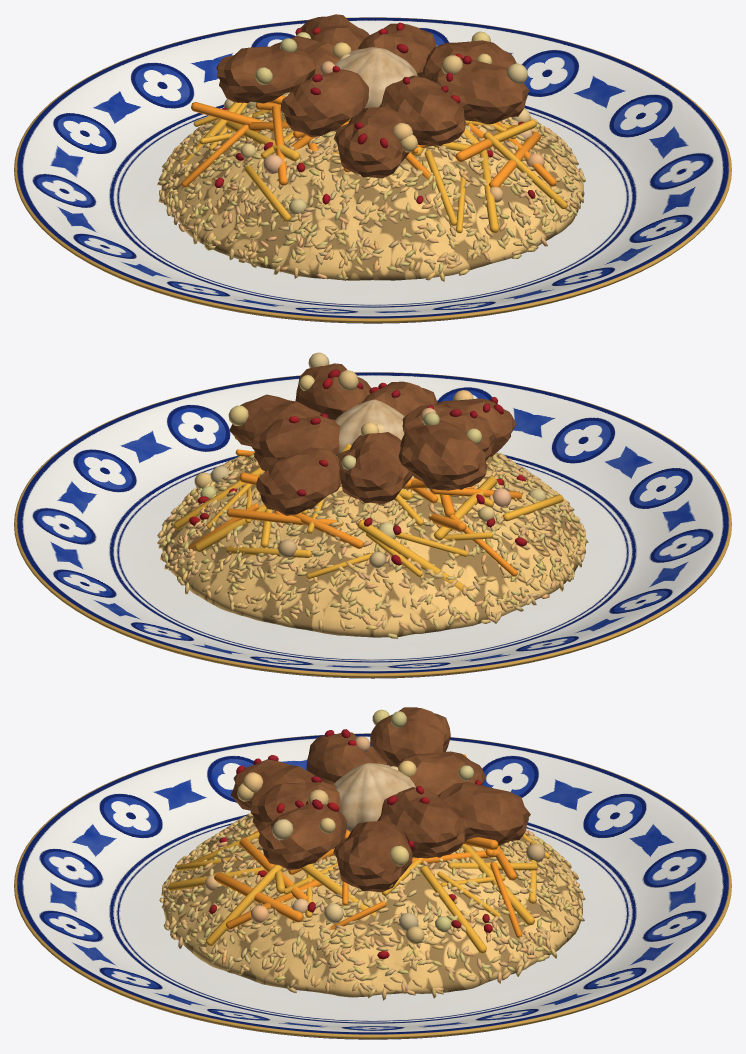
Rendered from plov.glb.
3 renders of one model, top to bottom at view 1: azimuth 30°, elevation 25°; view 2: azimuth 150°, elevation 25°; view 3: azimuth 270°, elevation 25°, orthographic.
Visible parts, largest first — view 1: base, rice, lamb, carrot, chickpeas, garlic-head, barberry; view 2: base, rice, lamb, carrot, chickpeas, garlic-head, barberry; view 3: base, rice, lamb, carrot, chickpeas, garlic-head, barberry.
Part boxes in pixels (bbox=[...]): base: bbox=[14, 17, 731, 323]; rice: bbox=[157, 92, 585, 281]; lamb: bbox=[216, 14, 529, 178]; carrot: bbox=[181, 30, 567, 233]; chickpeas: bbox=[224, 31, 544, 215]; garlic-head: bbox=[334, 47, 417, 108]; barberry: bbox=[214, 22, 535, 204]; base: bbox=[14, 372, 731, 678]; rice: bbox=[157, 451, 588, 638]; lamb: bbox=[229, 363, 516, 515]; carrot: bbox=[173, 436, 563, 591]; chickpeas: bbox=[194, 352, 545, 568]; garlic-head: bbox=[335, 399, 404, 456]; barberry: bbox=[189, 369, 526, 565]; base: bbox=[14, 733, 731, 1039]; rice: bbox=[159, 813, 585, 1000]; lamb: bbox=[231, 707, 530, 892]; carrot: bbox=[167, 754, 549, 953]; chickpeas: bbox=[204, 709, 545, 944]; garlic-head: bbox=[333, 763, 415, 831]; barberry: bbox=[209, 729, 492, 959].
Size of the model in its own units: 0.3278 by 0.0937 by 0.3278.
Materials: 8 (4 with a texture image).
